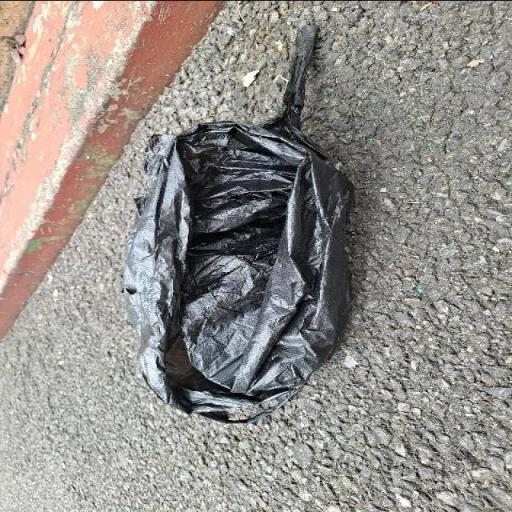plastic-bag: (112, 22, 360, 424)
